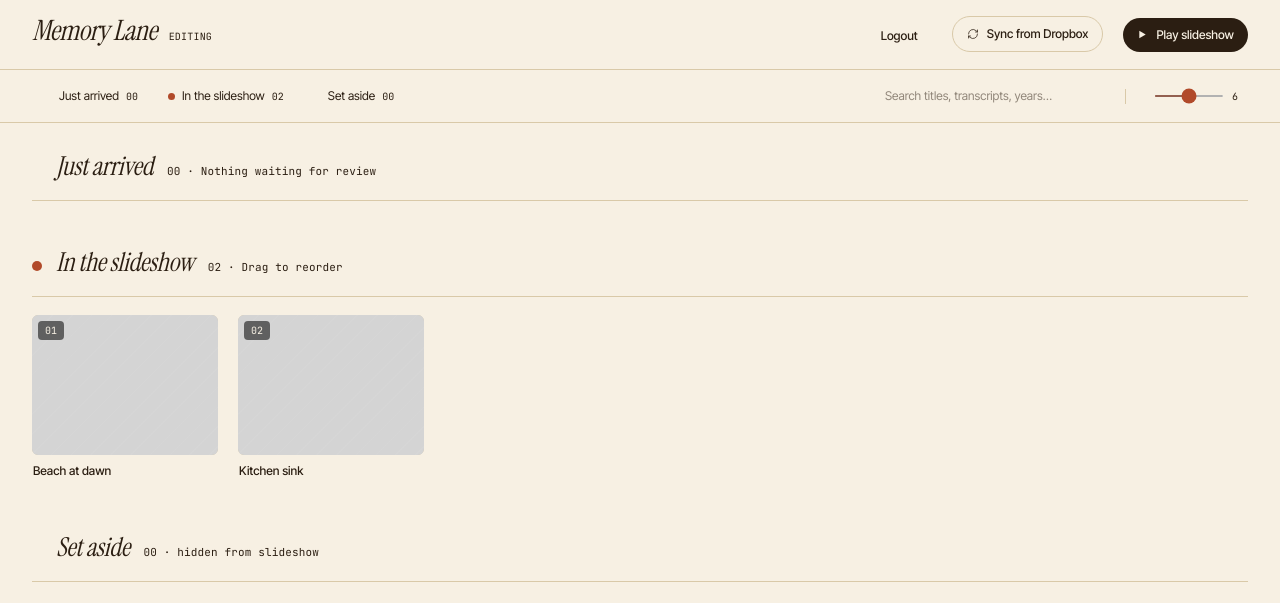
Test: EntryGrid › filters by title via the search input
In the field with placeholder "Search titles, transcripts, years…": (993, 96) left=885, top=87, right=1101, bottom=105, type "beach"
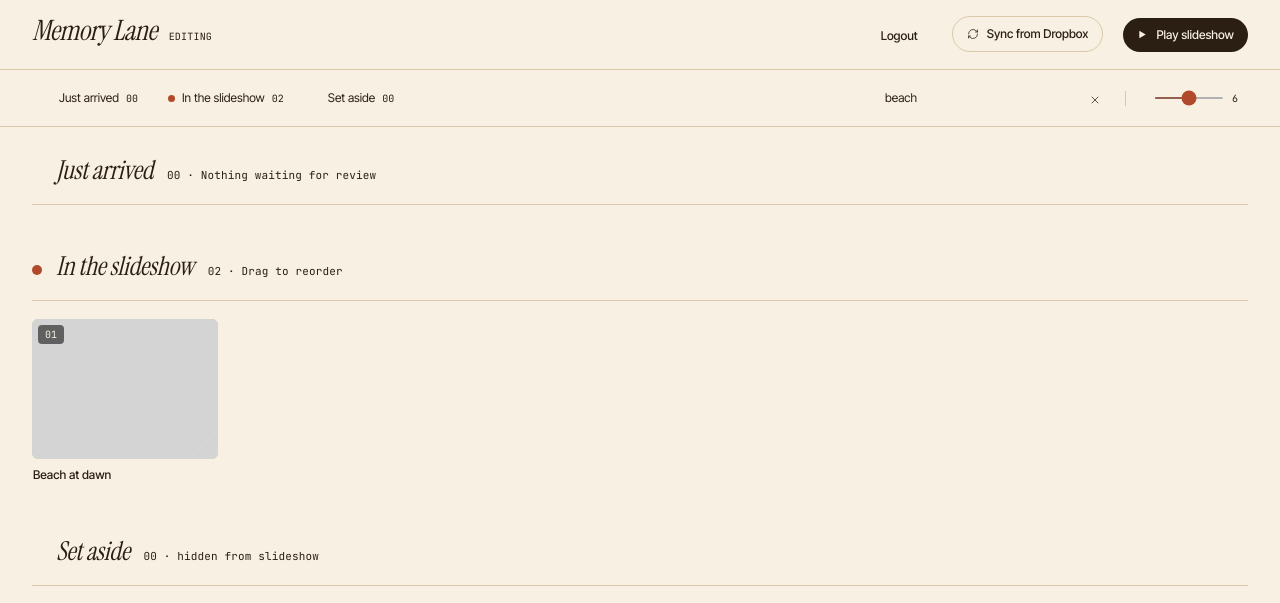
Check: the text "Beach at dawn" is shown, box left=33, top=466, right=111, bottom=482
Check: the text "Kitchen sink" is gone
